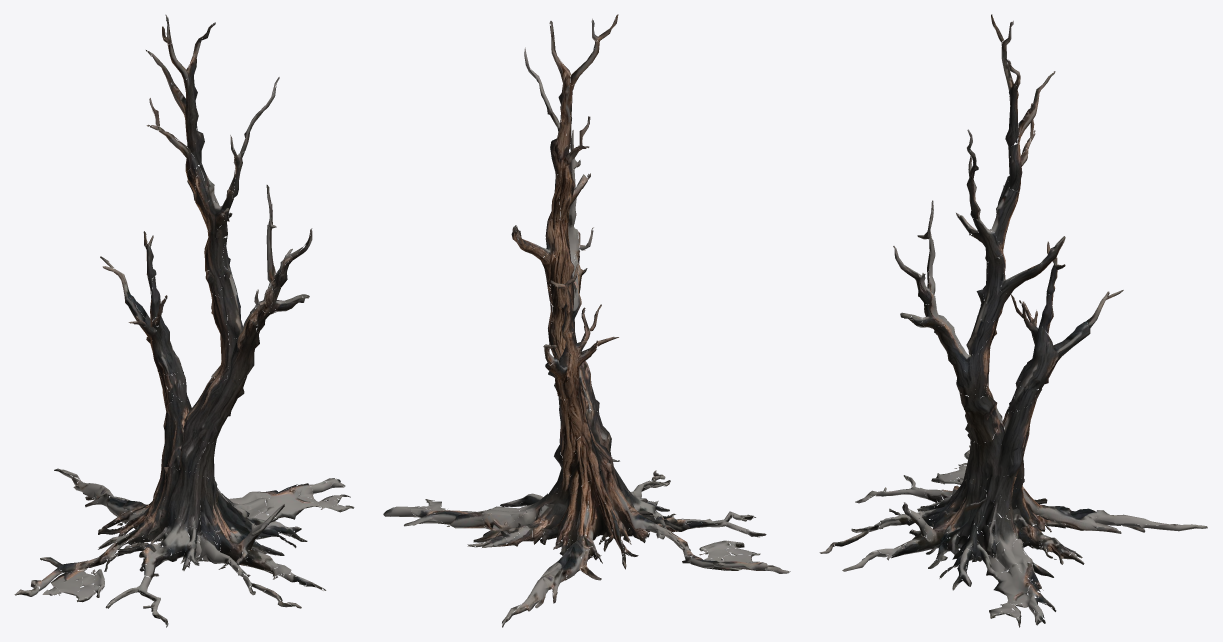
File: tree.glb
3 views of the same model, side by side, from view 1: azimuth 30°, elevation 25°; view 2: azimuth 150°, elevation 25°; view 3: azimuth 270°, elevation 25° (orthographic). The views are drawn at different scales.
Visible parts, largest first — view 1: tree; view 2: tree; view 3: tree.
Part boxes in pixels (x1,y1,x2,y2): tree: [14, 14, 354, 627]; tree: [383, 14, 790, 627]; tree: [819, 14, 1207, 627].
Size of the model in its own units: 2.83 by 3.95 by 2.68.
Materials: 1 (1 with a texture image).
